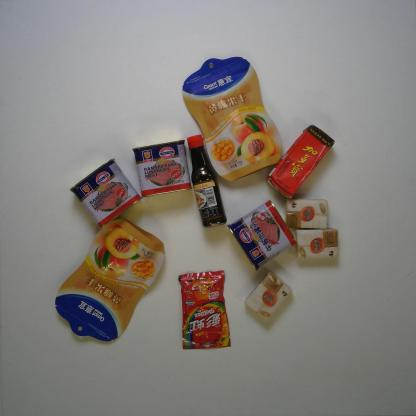Candy: (176, 267, 234, 355)
Canned Food: (224, 196, 302, 274), (66, 156, 145, 230), (129, 137, 193, 202)
Dried Fruit: (51, 212, 167, 349), (180, 49, 288, 184)
Drink: (263, 122, 338, 200)
Seasoner: (182, 128, 231, 231)
Tissue: (241, 268, 296, 323), (292, 223, 342, 265), (282, 193, 334, 232)
